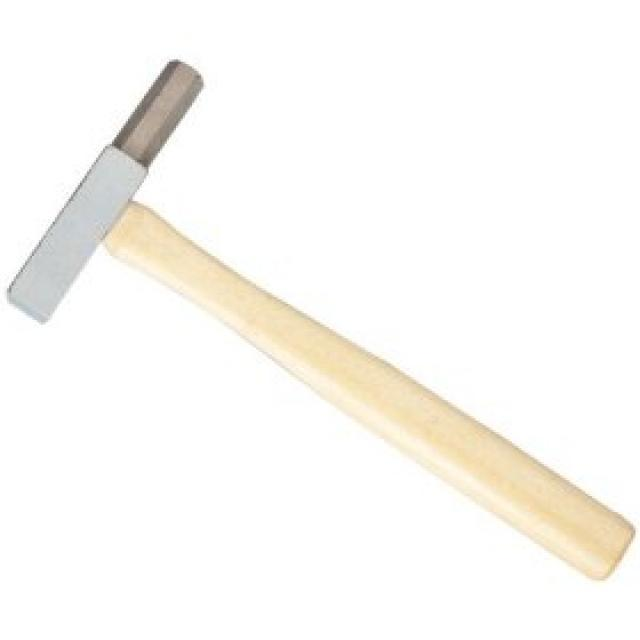hammer: (7, 55, 636, 590)
